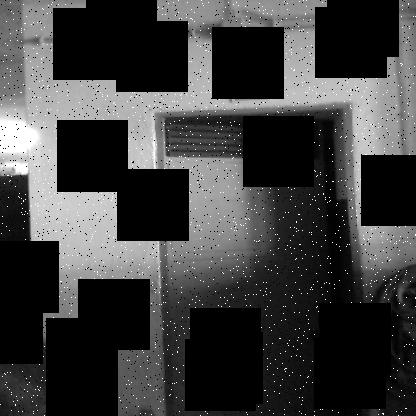Porte: (154, 101, 371, 415)
